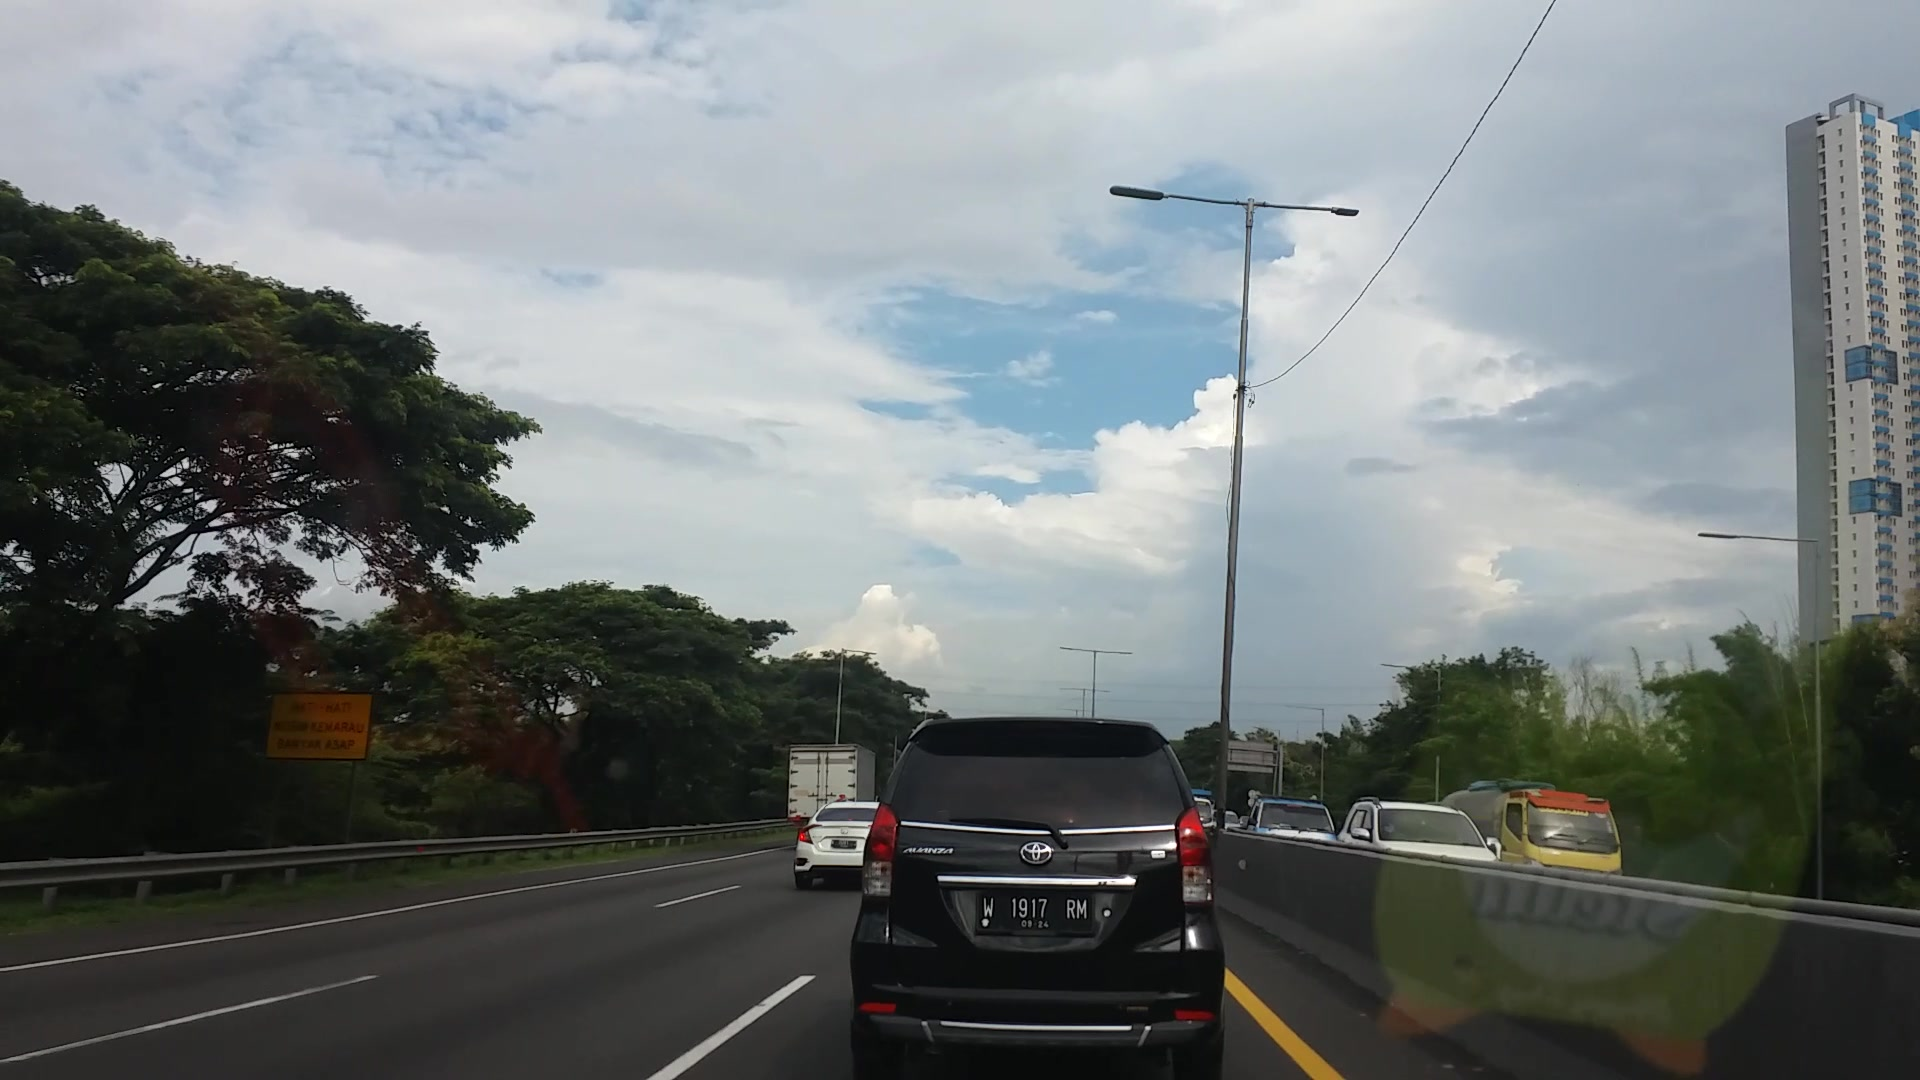plate_positive: (975, 889, 1095, 939)
